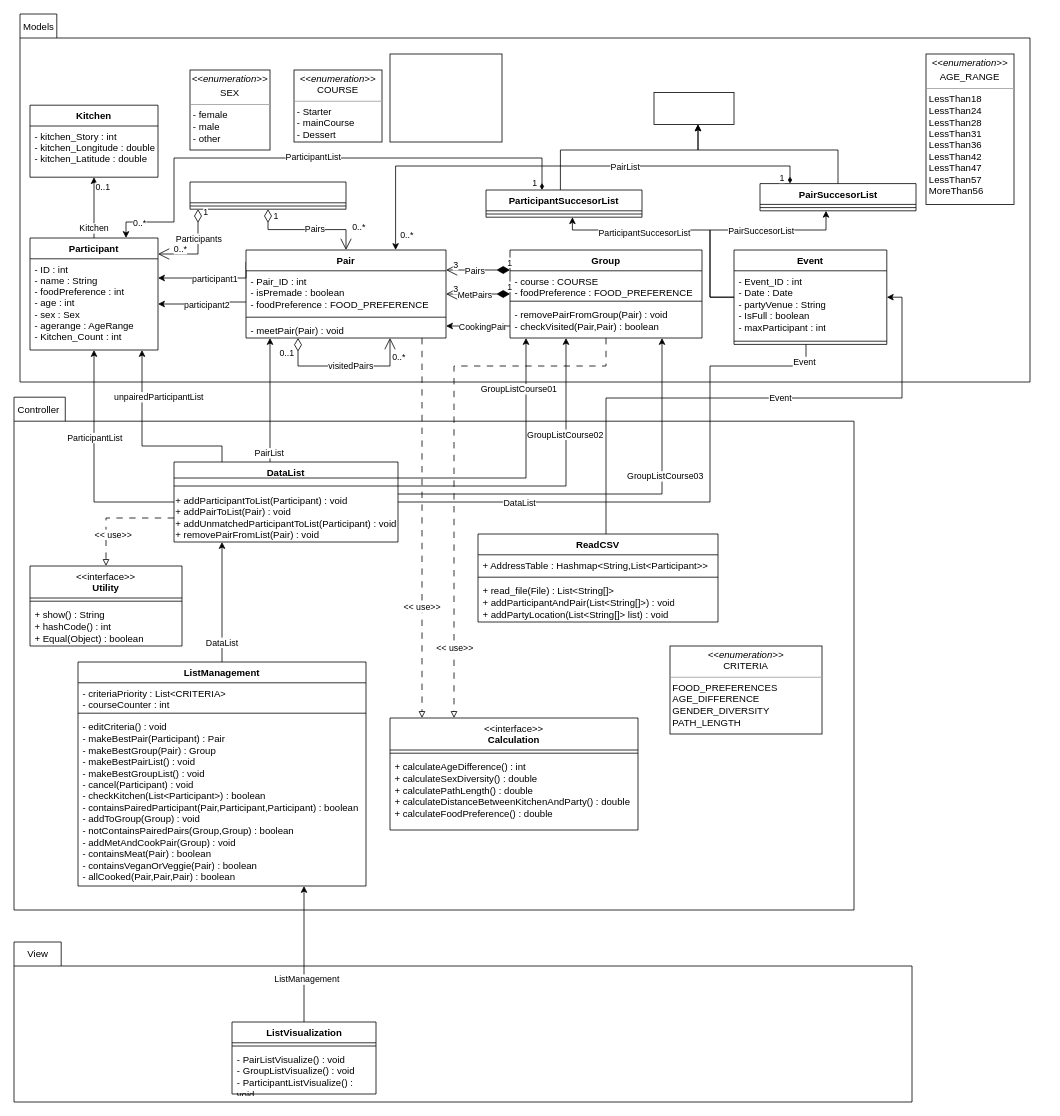
The diagram is 1060 pixels wide and 1116 high, and some of its shapes have lost their labels. Here are the shapes that lost their labels. From the top down, the centre of each, then its label:
At point (445, 97): "<<enumeration>> FOOD_PREFERENCE - meat - none - veggie - vegan".
At point (693, 108): "«abstract» SuccesorList".
At point (267, 195): "CanceledList".
